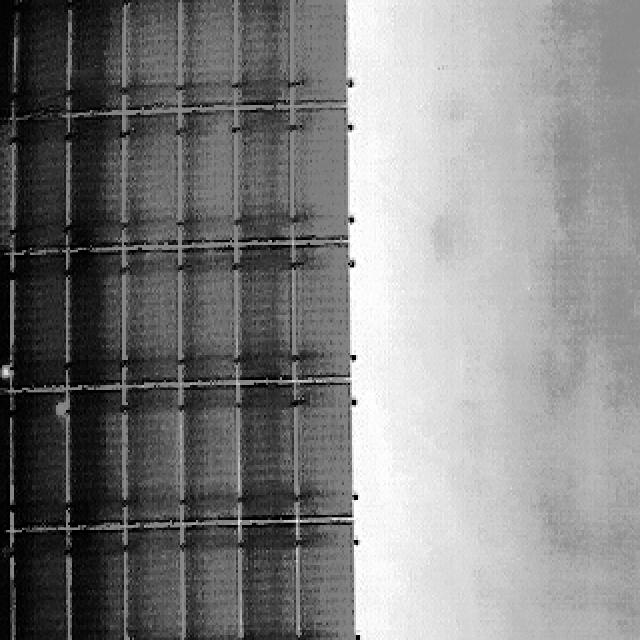Hotspots: (54, 398, 67, 420), (0, 360, 12, 380)
PV-modules: (236, 245, 295, 381), (123, 387, 181, 525), (292, 243, 350, 380), (239, 383, 297, 520), (66, 389, 123, 528), (121, 116, 179, 252), (180, 385, 238, 521), (294, 384, 352, 520), (12, 398, 70, 533), (12, 258, 70, 392), (180, 254, 238, 388), (236, 114, 294, 247), (121, 256, 179, 389), (295, 105, 351, 242), (180, 109, 236, 246), (66, 258, 123, 392), (15, 121, 71, 254), (66, 120, 122, 253), (300, 520, 358, 640), (122, 525, 182, 640), (182, 522, 240, 640), (240, 522, 298, 640), (16, 2, 72, 118), (8, 530, 66, 640), (123, 2, 179, 115), (69, 2, 124, 117), (74, 525, 128, 640), (180, 0, 235, 109), (234, 0, 290, 105), (294, 0, 349, 104), (0, 122, 14, 254), (0, 1, 15, 120), (0, 259, 11, 379), (0, 421, 11, 536), (0, 550, 12, 640)
